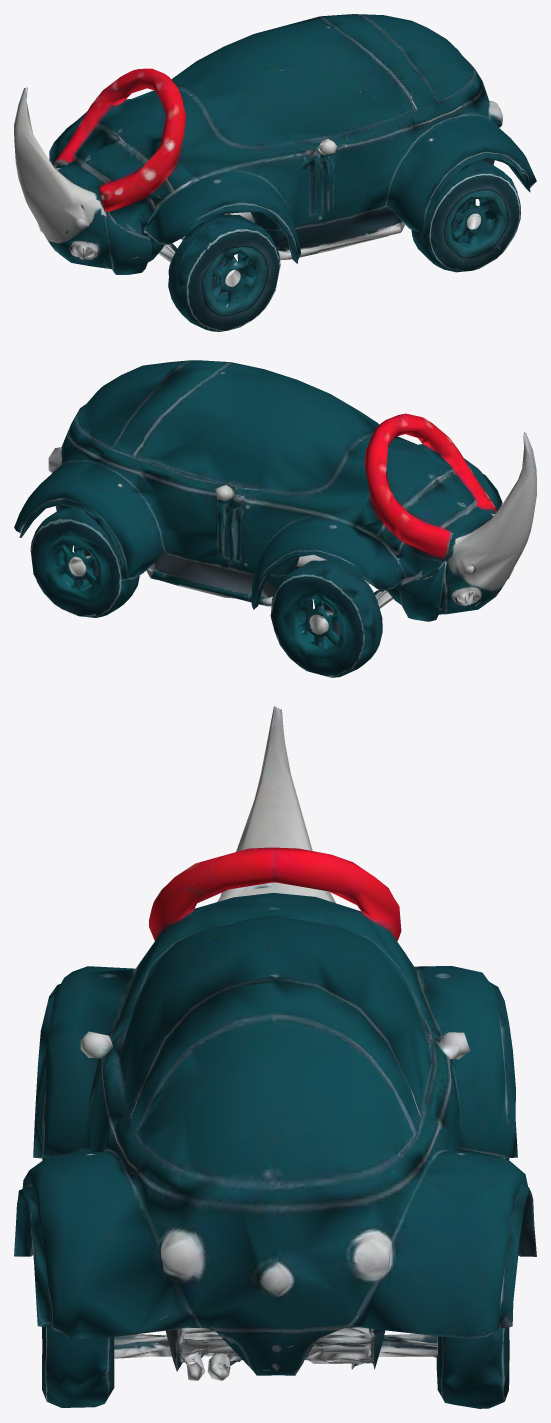
Rendered from sr_magnet.glb.
3 views of the same model, one above another, from view 1: azimuth 30°, elevation 25°; view 2: azimuth 150°, elevation 25°; view 3: azimuth 270°, elevation 25° (orthographic). The views are drawn at different scales.
Bounding box in the file's own units: 1.9 × 0.8967 × 1.1.
Materials: 1 (1 with a texture image).
